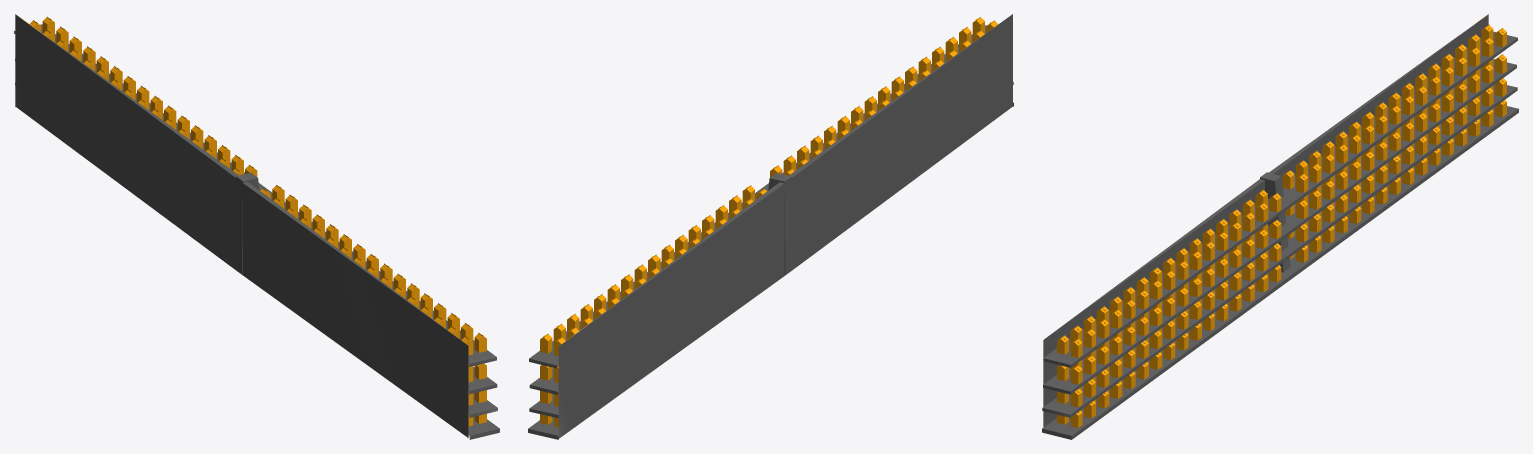
File: EstanteriaJugo.obj
3 renders of one model, left to right at view 1: azimuth 30°, elevation 25°; view 2: azimuth 150°, elevation 25°; view 3: azimuth 330°, elevation 25°, orthographic.
Visible parts, largest first — view 1: EstanteJugos; view 2: EstanteJugos; view 3: EstanteJugos.
Part boxes in pixels (box(x1,y1,x2,y2)): EstanteJugos: box(14, 14, 499, 439); EstanteJugos: box(528, 14, 1013, 439); EstanteJugos: box(1042, 14, 1518, 439).
Size of the model in its own units: 0.7728 by 2.1 by 18.26.
